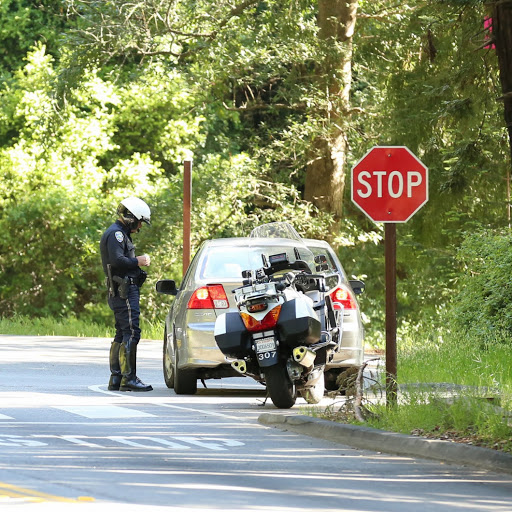stop_sign: (351, 145, 429, 224)
